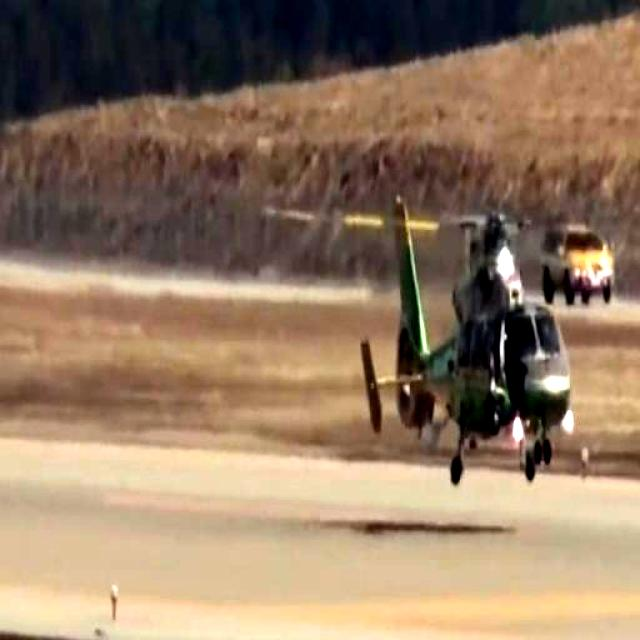drone: (334, 166, 574, 485)
